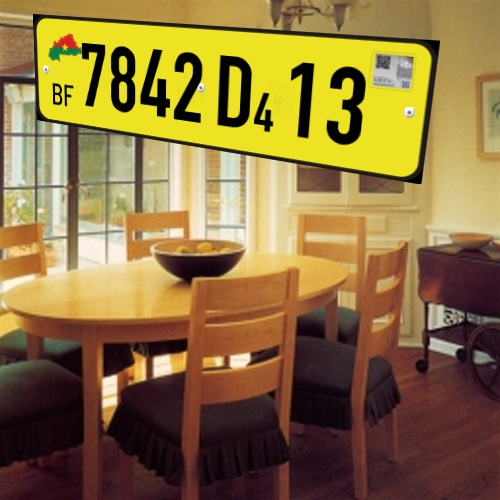plate: (22, 7, 443, 199)
